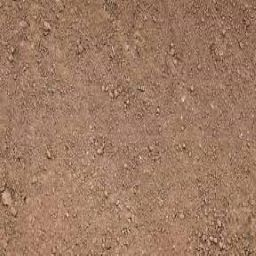dirt: (2, 4, 251, 251)
